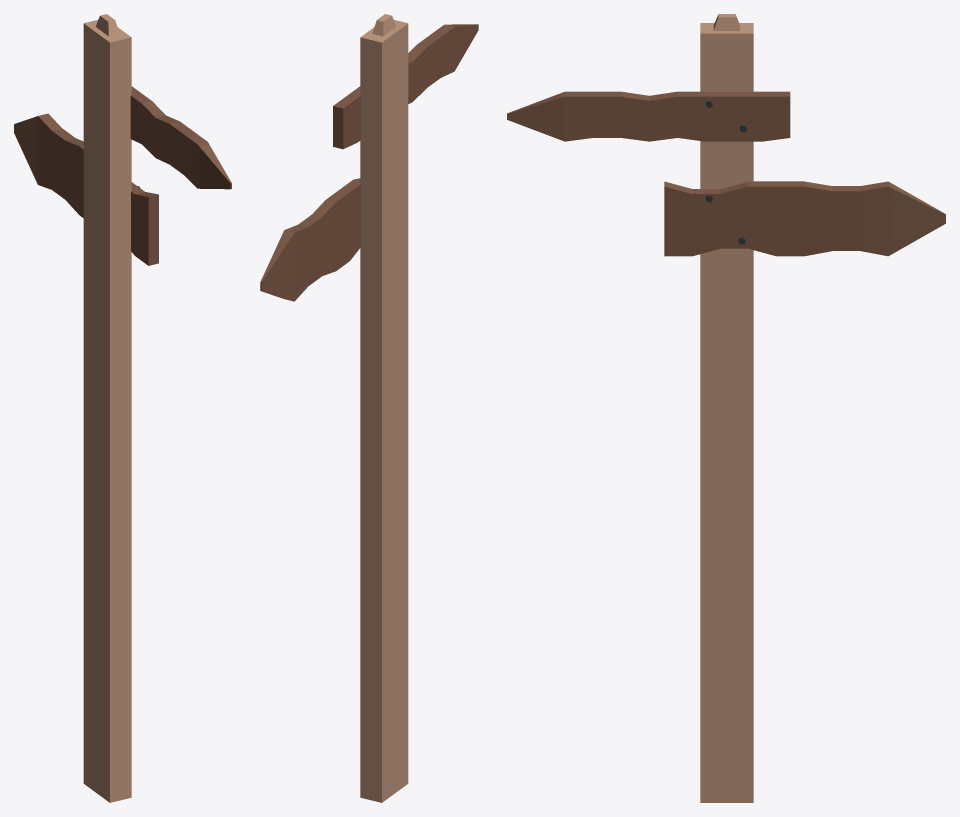
The model's file is west_direction.fbx.
3 views of the same model, side by side, from view 1: azimuth 30°, elevation 25°; view 2: azimuth 150°, elevation 25°; view 3: azimuth 270°, elevation 25° (orthographic).
Parts seen in each view (by area): view 1: pCube4; view 2: pCube4; view 3: pCube4.
Boxes of the visible parts, <box> form: pCube4: <box>14,14,231,802</box>; pCube4: <box>260,14,478,802</box>; pCube4: <box>507,14,945,802</box>.
Size of the model in its own units: 0.1731 by 3.81 by 1.94.
